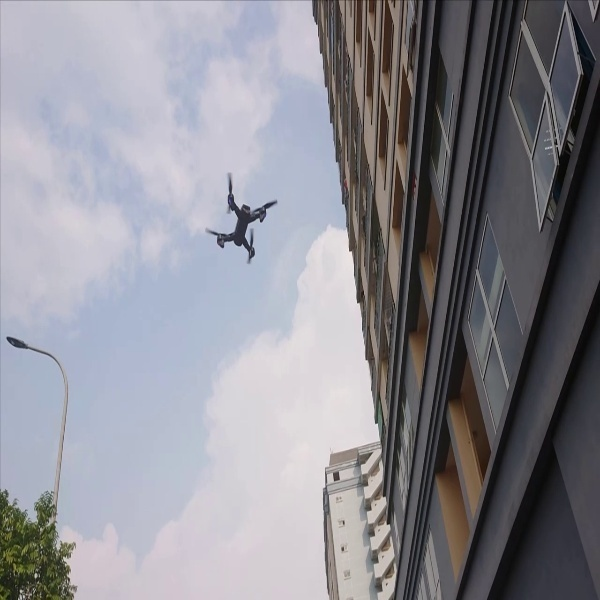drone: (192, 158, 283, 265)
